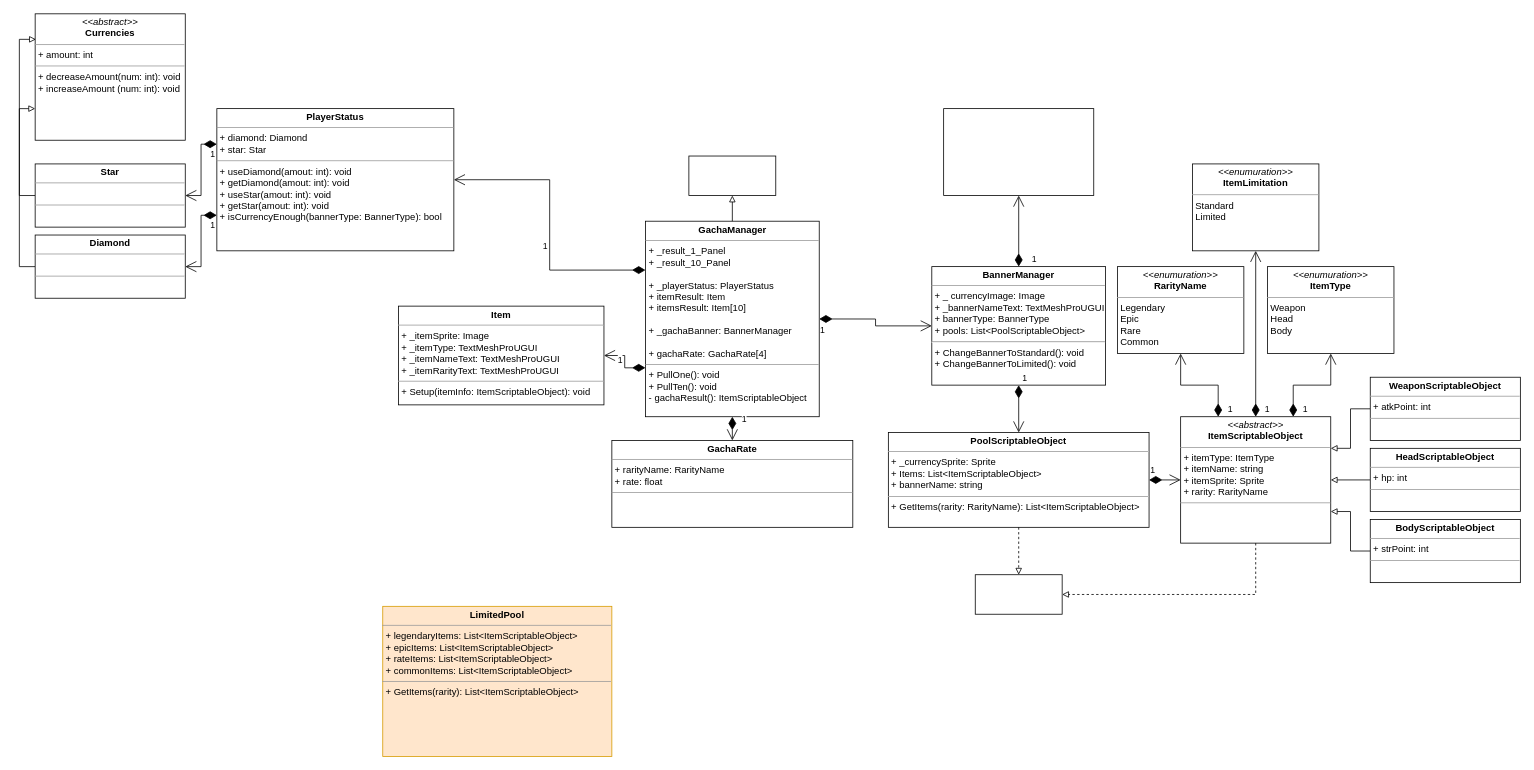
This 1534x770 diagram has some shape labels left out. Each missing label, with the centre of its shape:
"<<enumuration>> BannerType Standard Limited" belongs at (x=1018, y=152).
"«interface» Monobehavior" belongs at (x=732, y=175).
"«interface» ScriptableObject" belongs at (x=1018, y=594).
